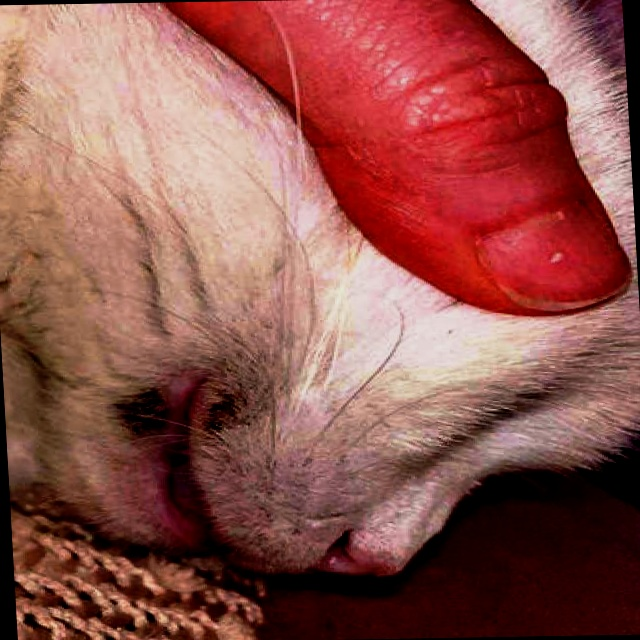acne: (190, 383, 268, 435), (108, 391, 180, 437)
